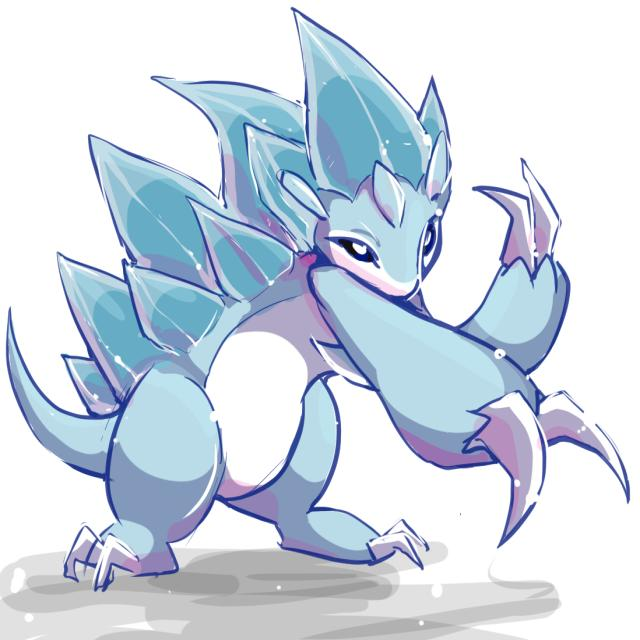Alolan: (55, 54, 597, 578)
